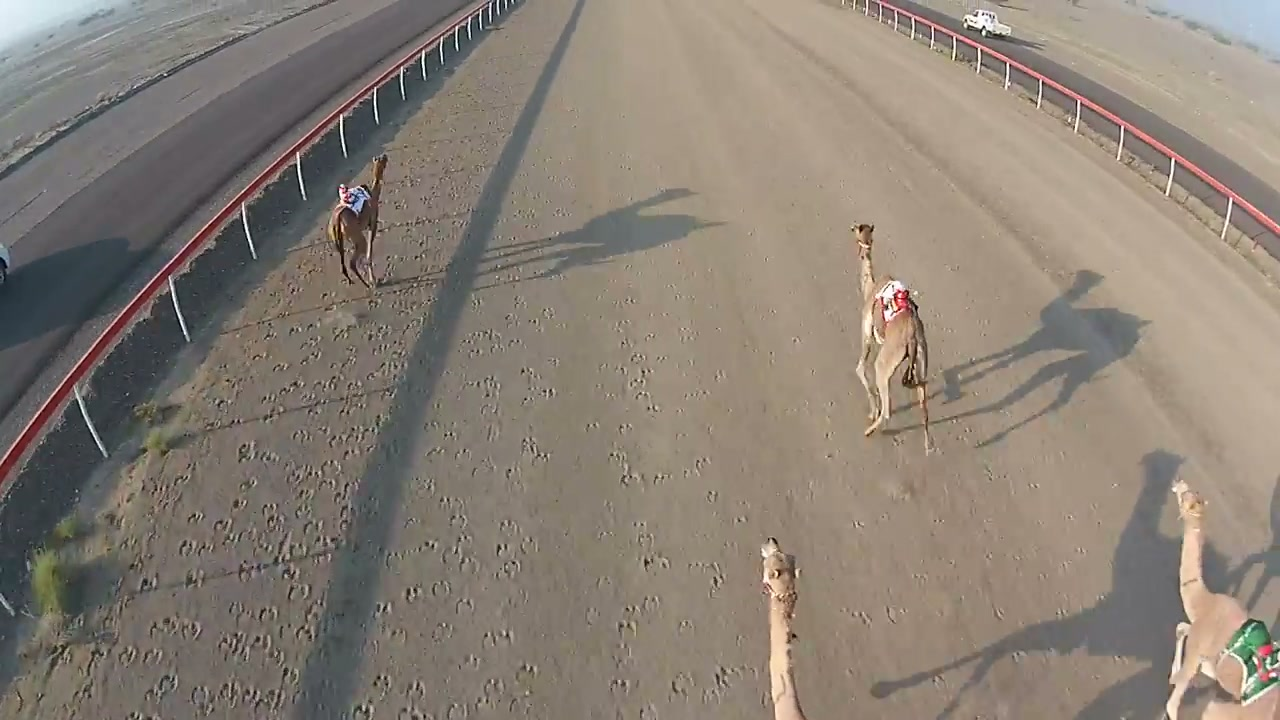animal_footprint: (111, 297, 404, 719), (400, 380, 569, 719), (584, 293, 702, 702)
